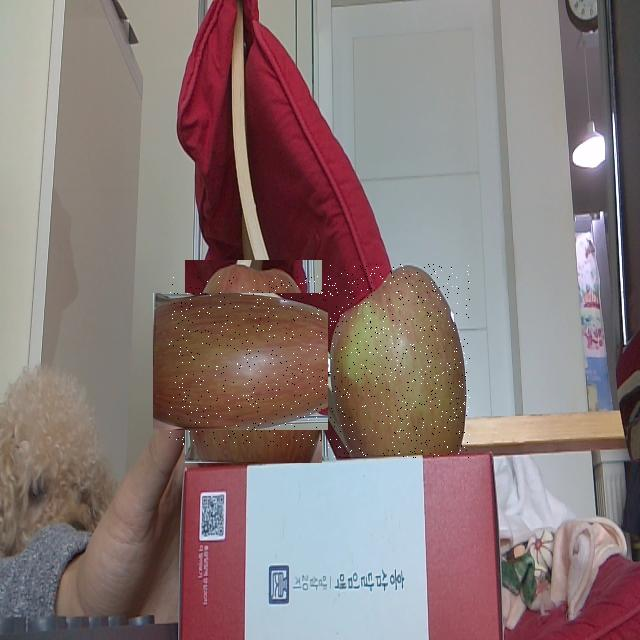apple: (169, 276, 338, 447), (328, 264, 471, 458)
